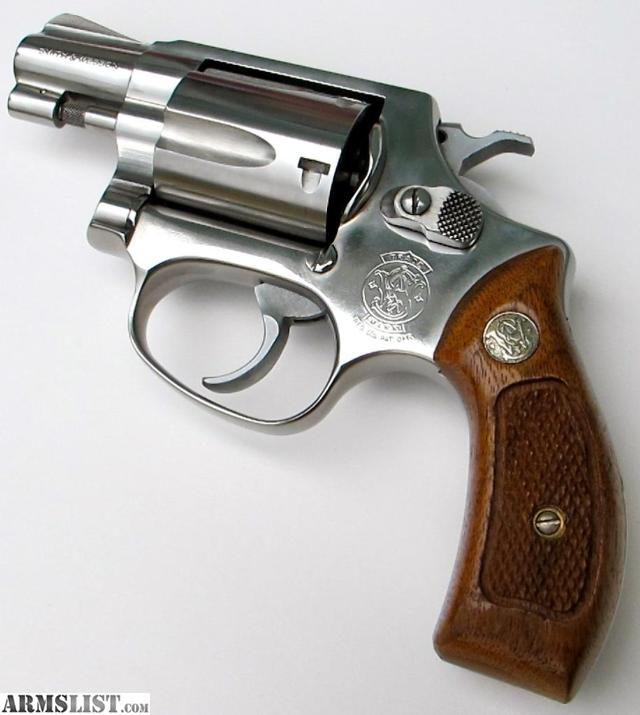gun: (4, 7, 637, 709)
